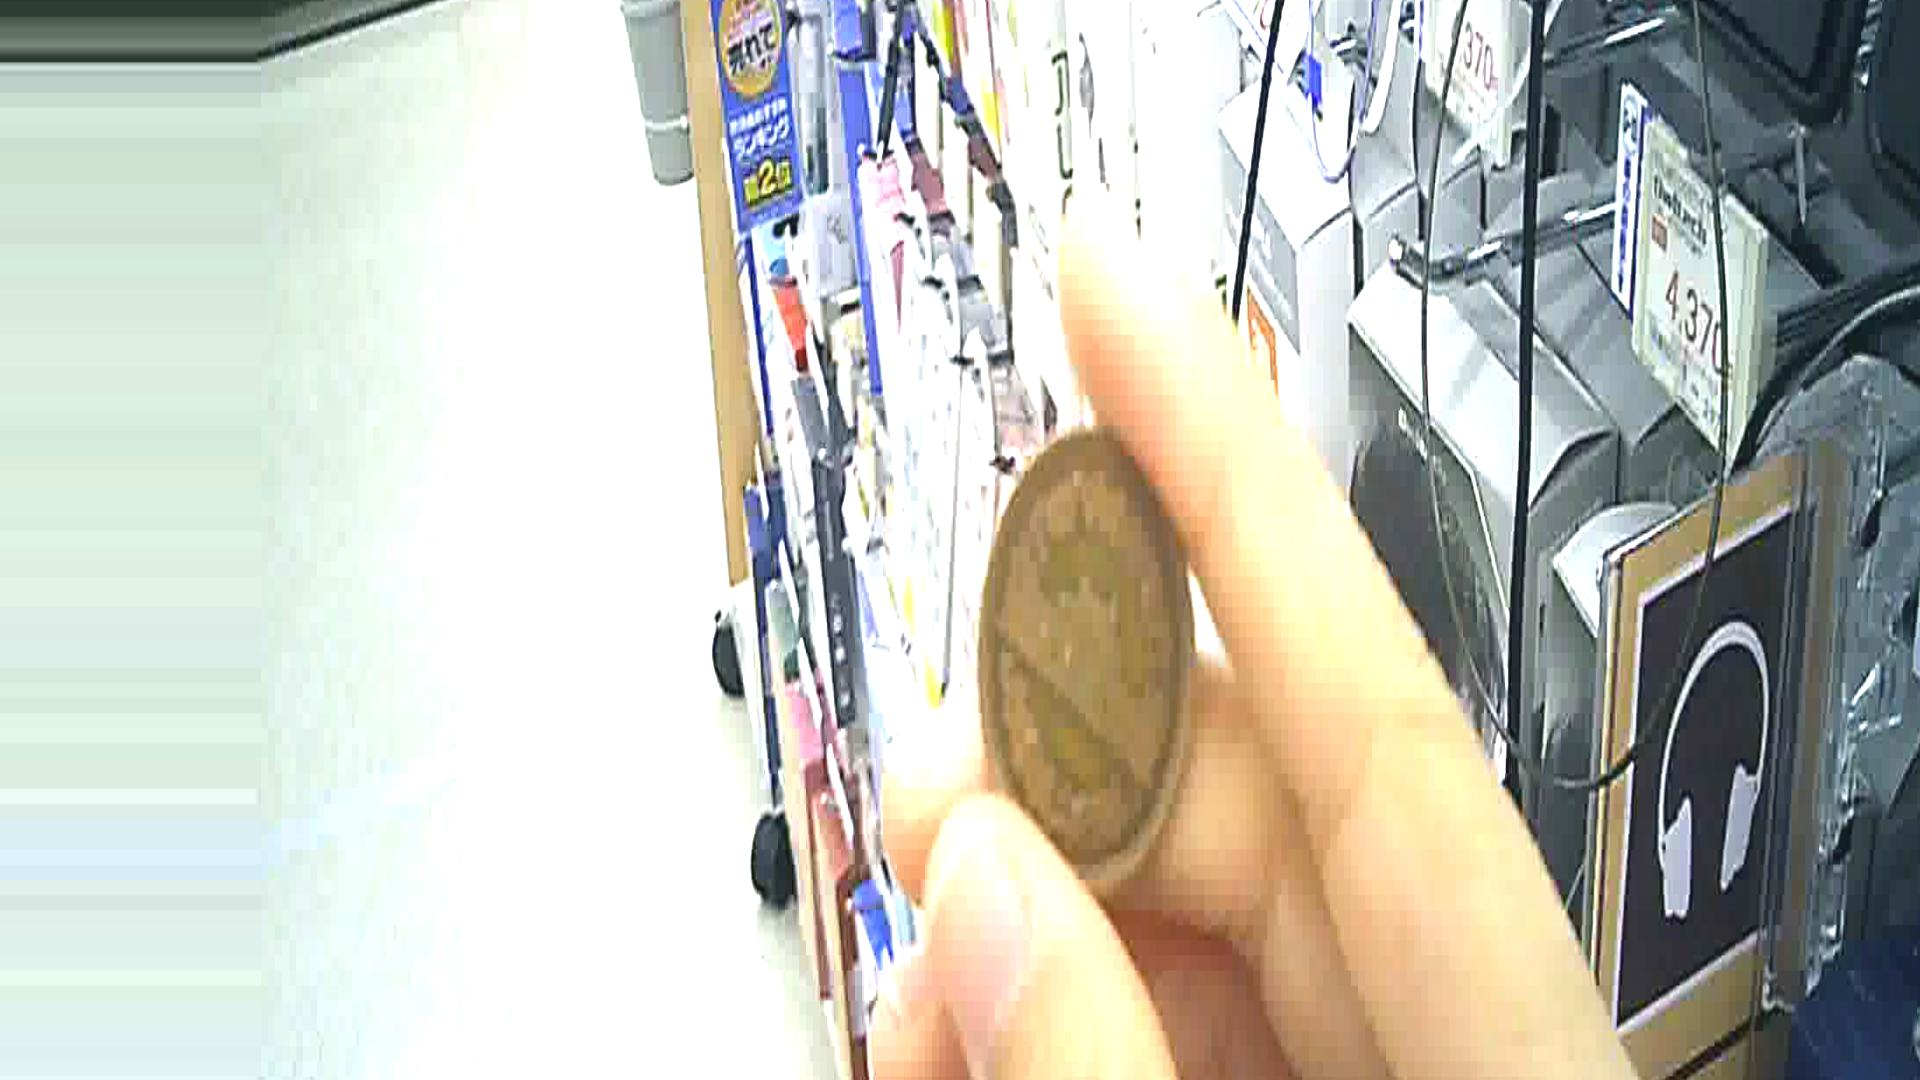10 Yen: (963, 433, 1212, 940)
